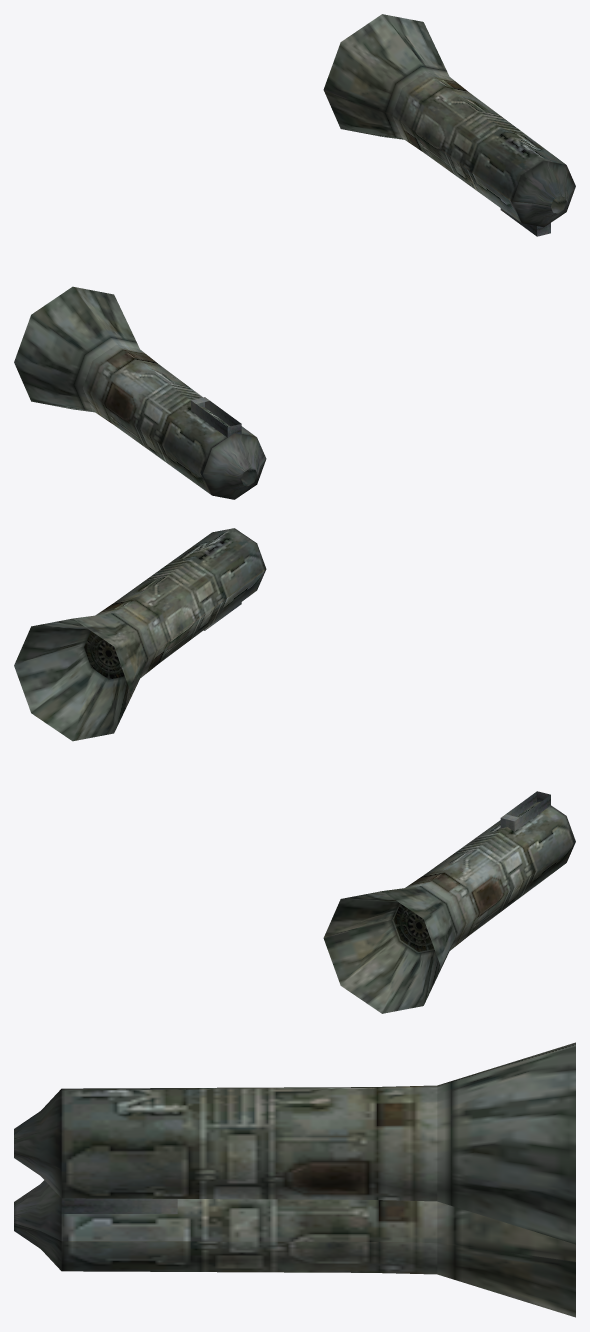
Rendered from xwing_thruster_neg_s02_l0.fbx.
3 renders of one model, top to bottom at view 1: azimuth 30°, elevation 25°; view 2: azimuth 150°, elevation 25°; view 3: azimuth 270°, elevation 25°, orthographic. The views are drawn at different scales.
Visible parts, largest first — view 1: mesh_node; view 2: mesh_node; view 3: mesh_node.
Part boxes in pixels (<box>): mesh_node: <box>14,14,575,499</box>; mesh_node: <box>14,528,575,1013</box>; mesh_node: <box>14,1042,575,1317</box>.
Size of the model in its own units: 4.81 by 3.45 by 3.46.
Materials: 1 (1 with a texture image).
